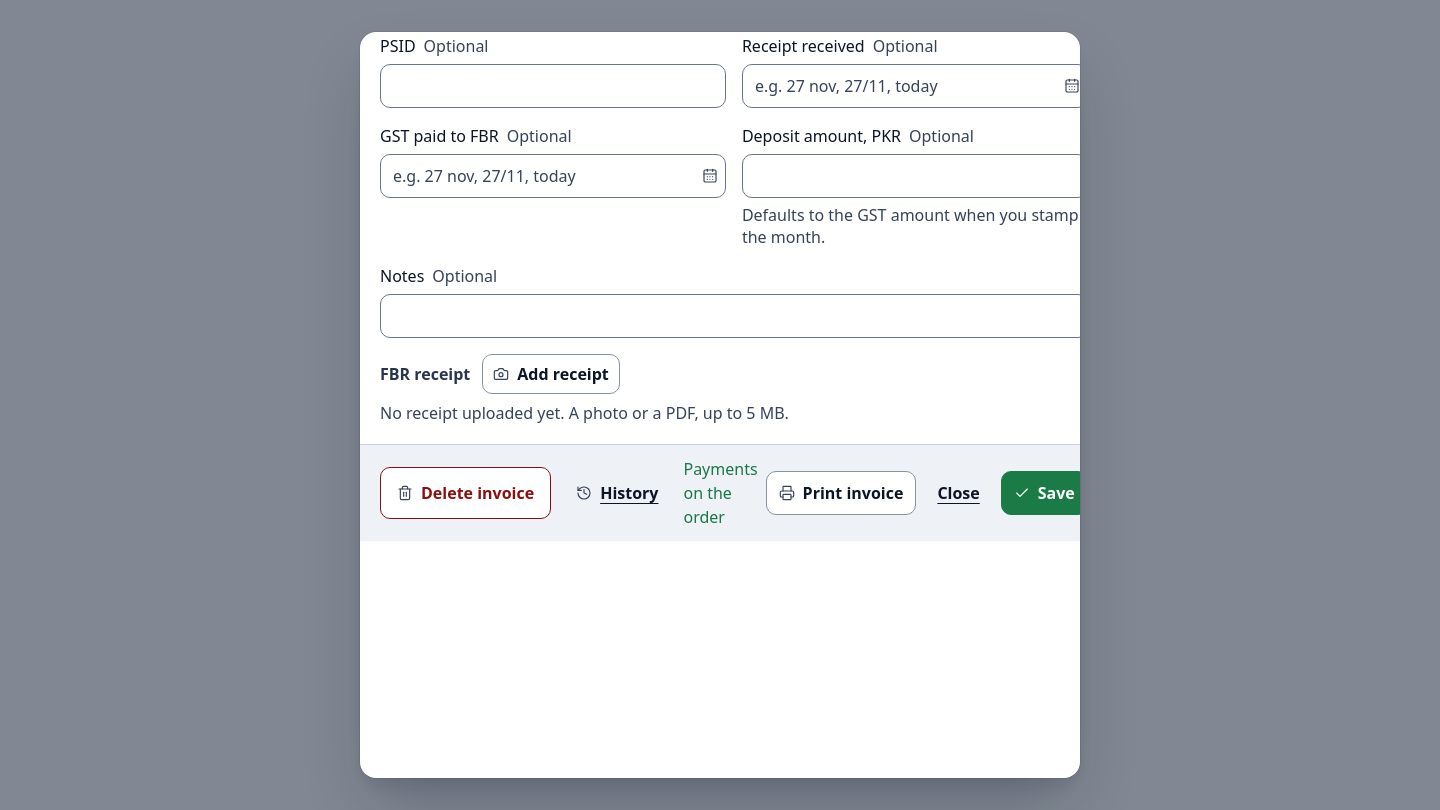
Test: Invoice: delete › a bank-ticked invoice says which statement, links to it, and has no Delete
(page scrolled)
Click the button "Delete invoice".
click(466, 493)  # box [380, 467, 551, 519]
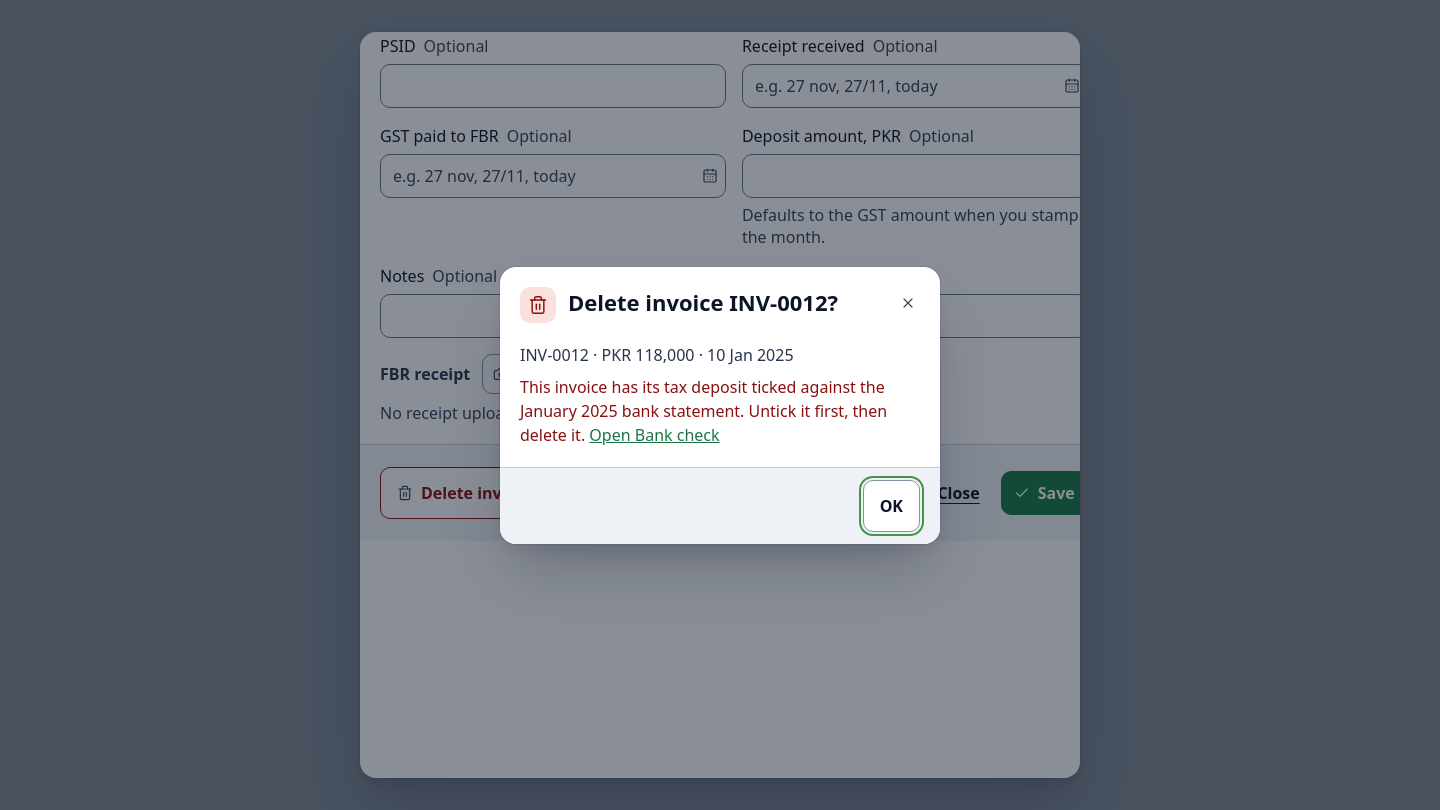
Check: the text "ticked against the January 2025 bank statement" is shown, box [520, 376, 887, 446]
Check: the link "Open Bank check" is shown, box [589, 424, 720, 446]
